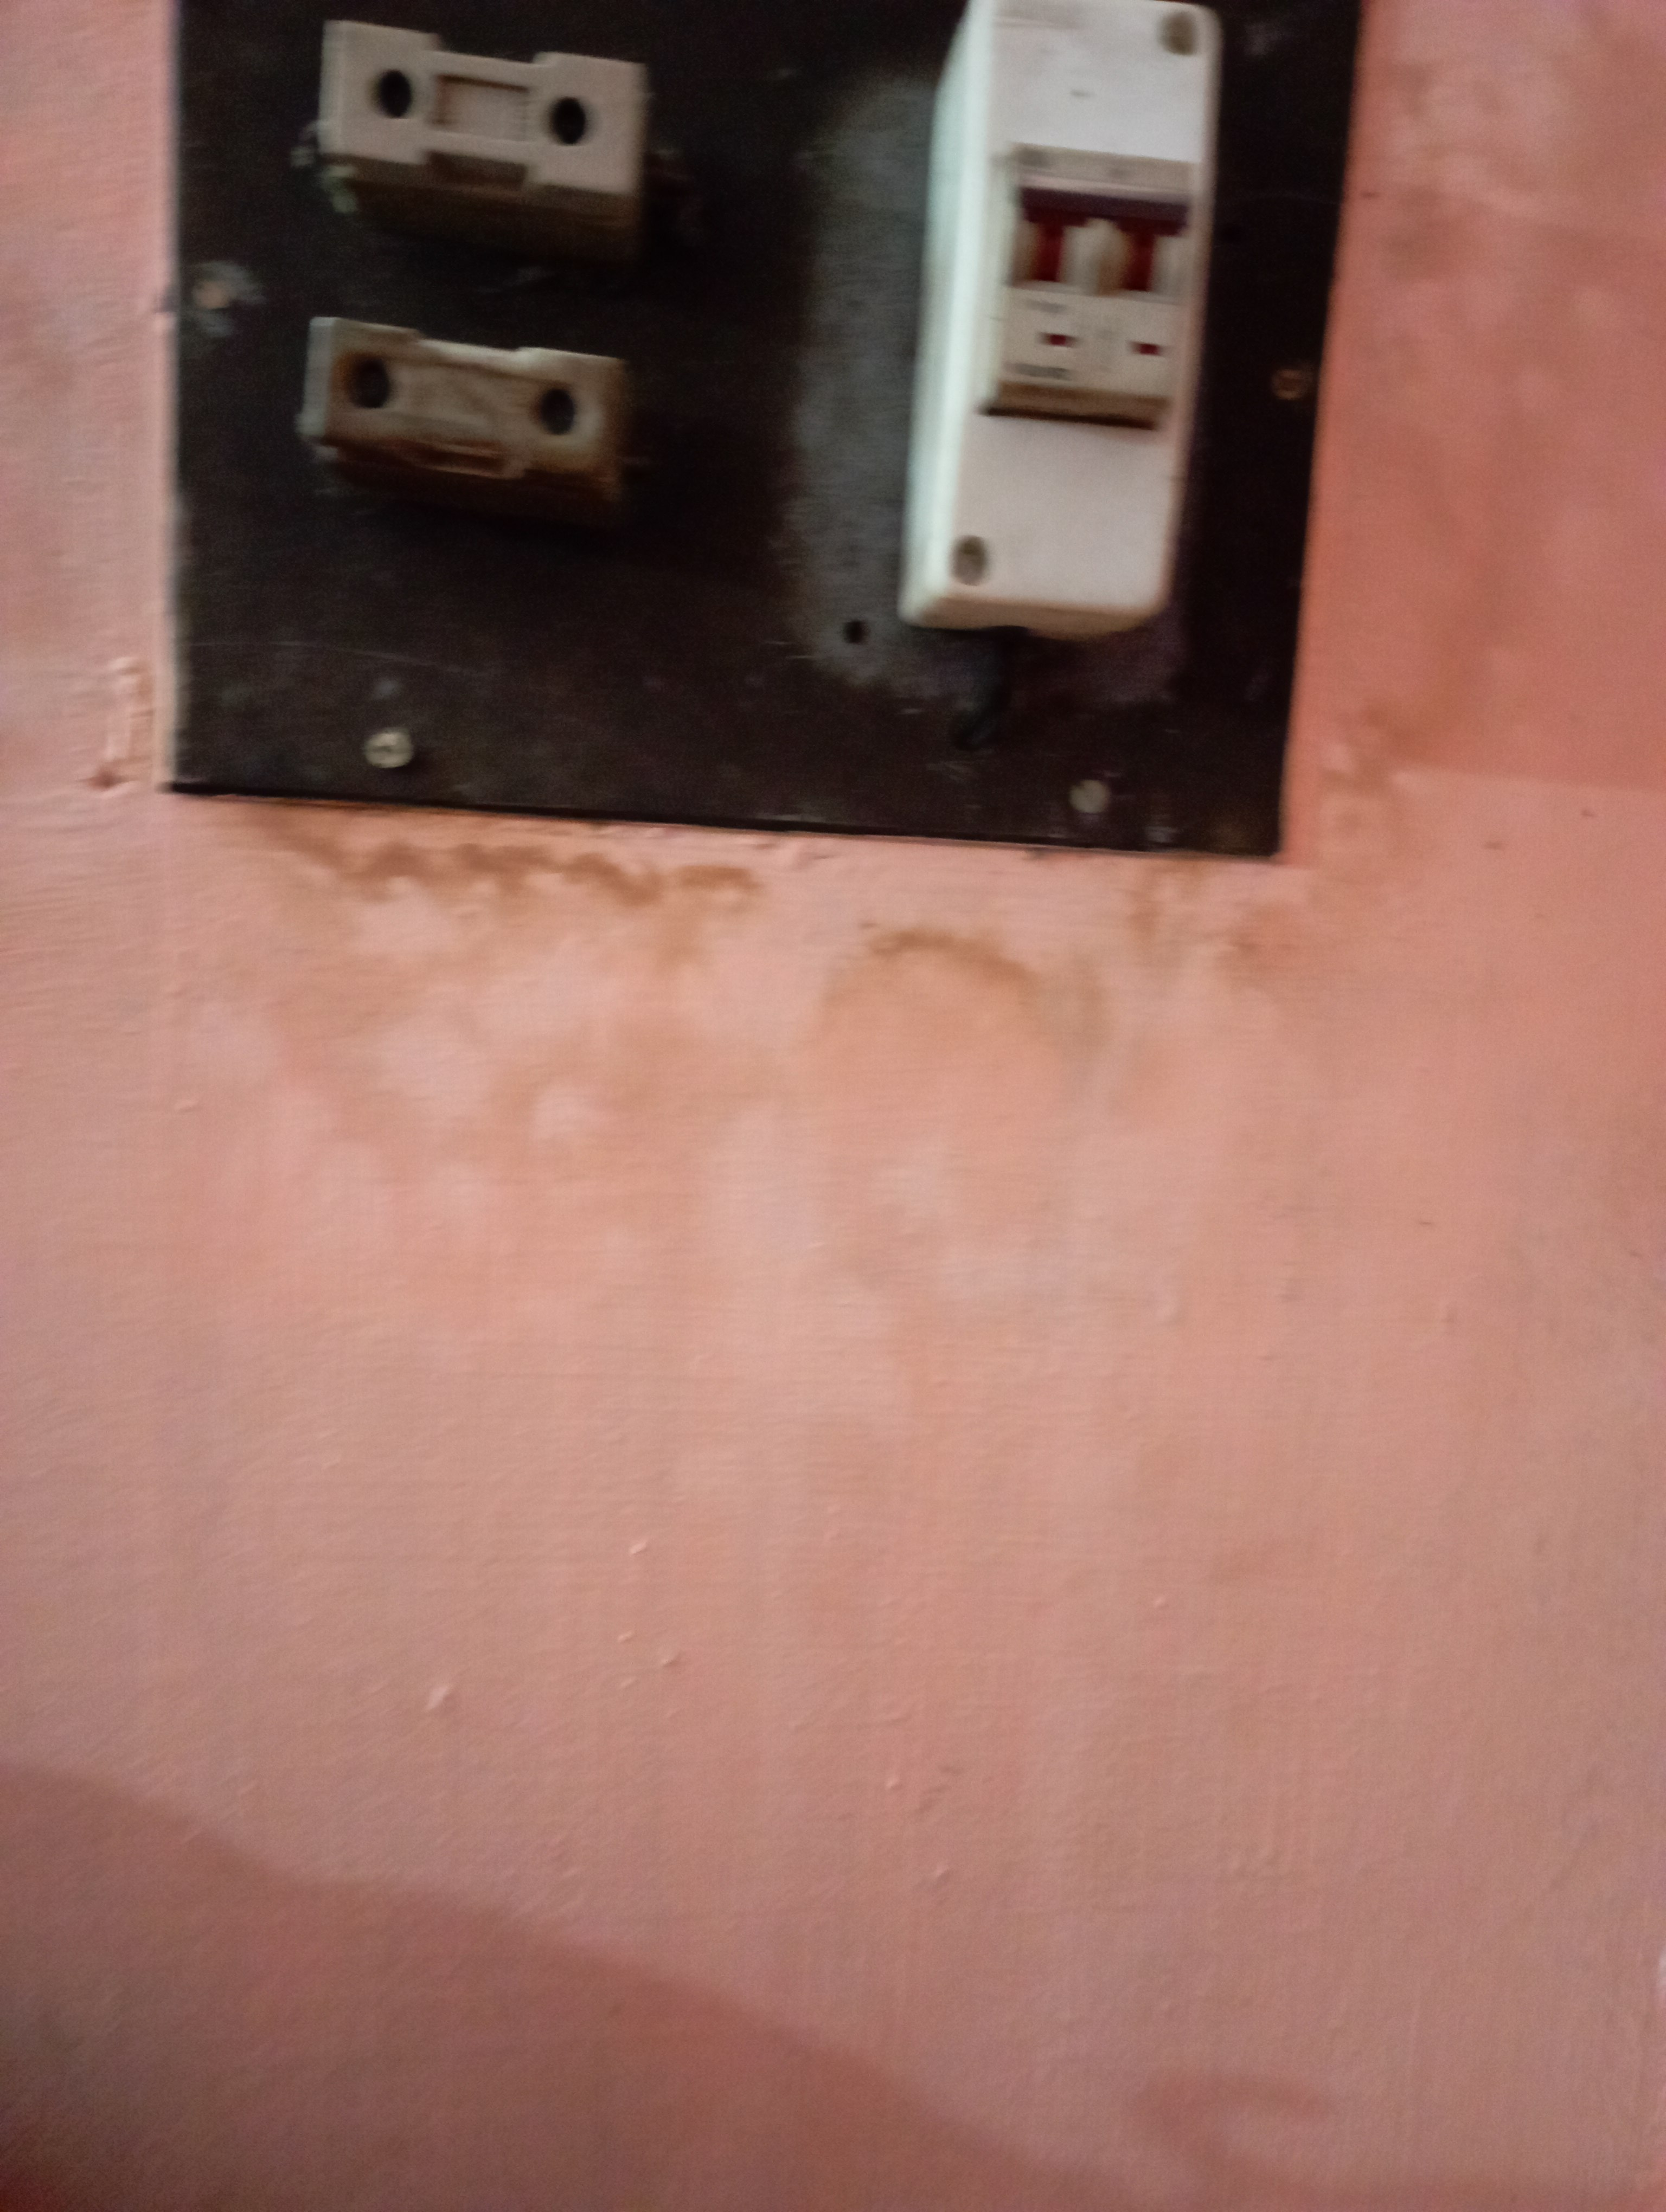ciruit_breaker: (903, 3, 1208, 649)
fuse: (308, 17, 656, 215), (296, 308, 635, 507)
